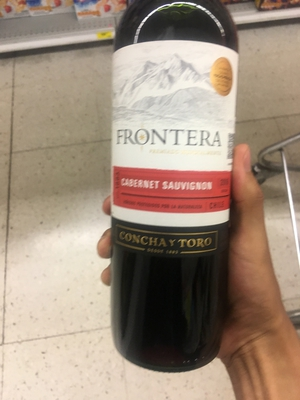frontera cabernet sauvignon: (100, 1, 249, 358)
